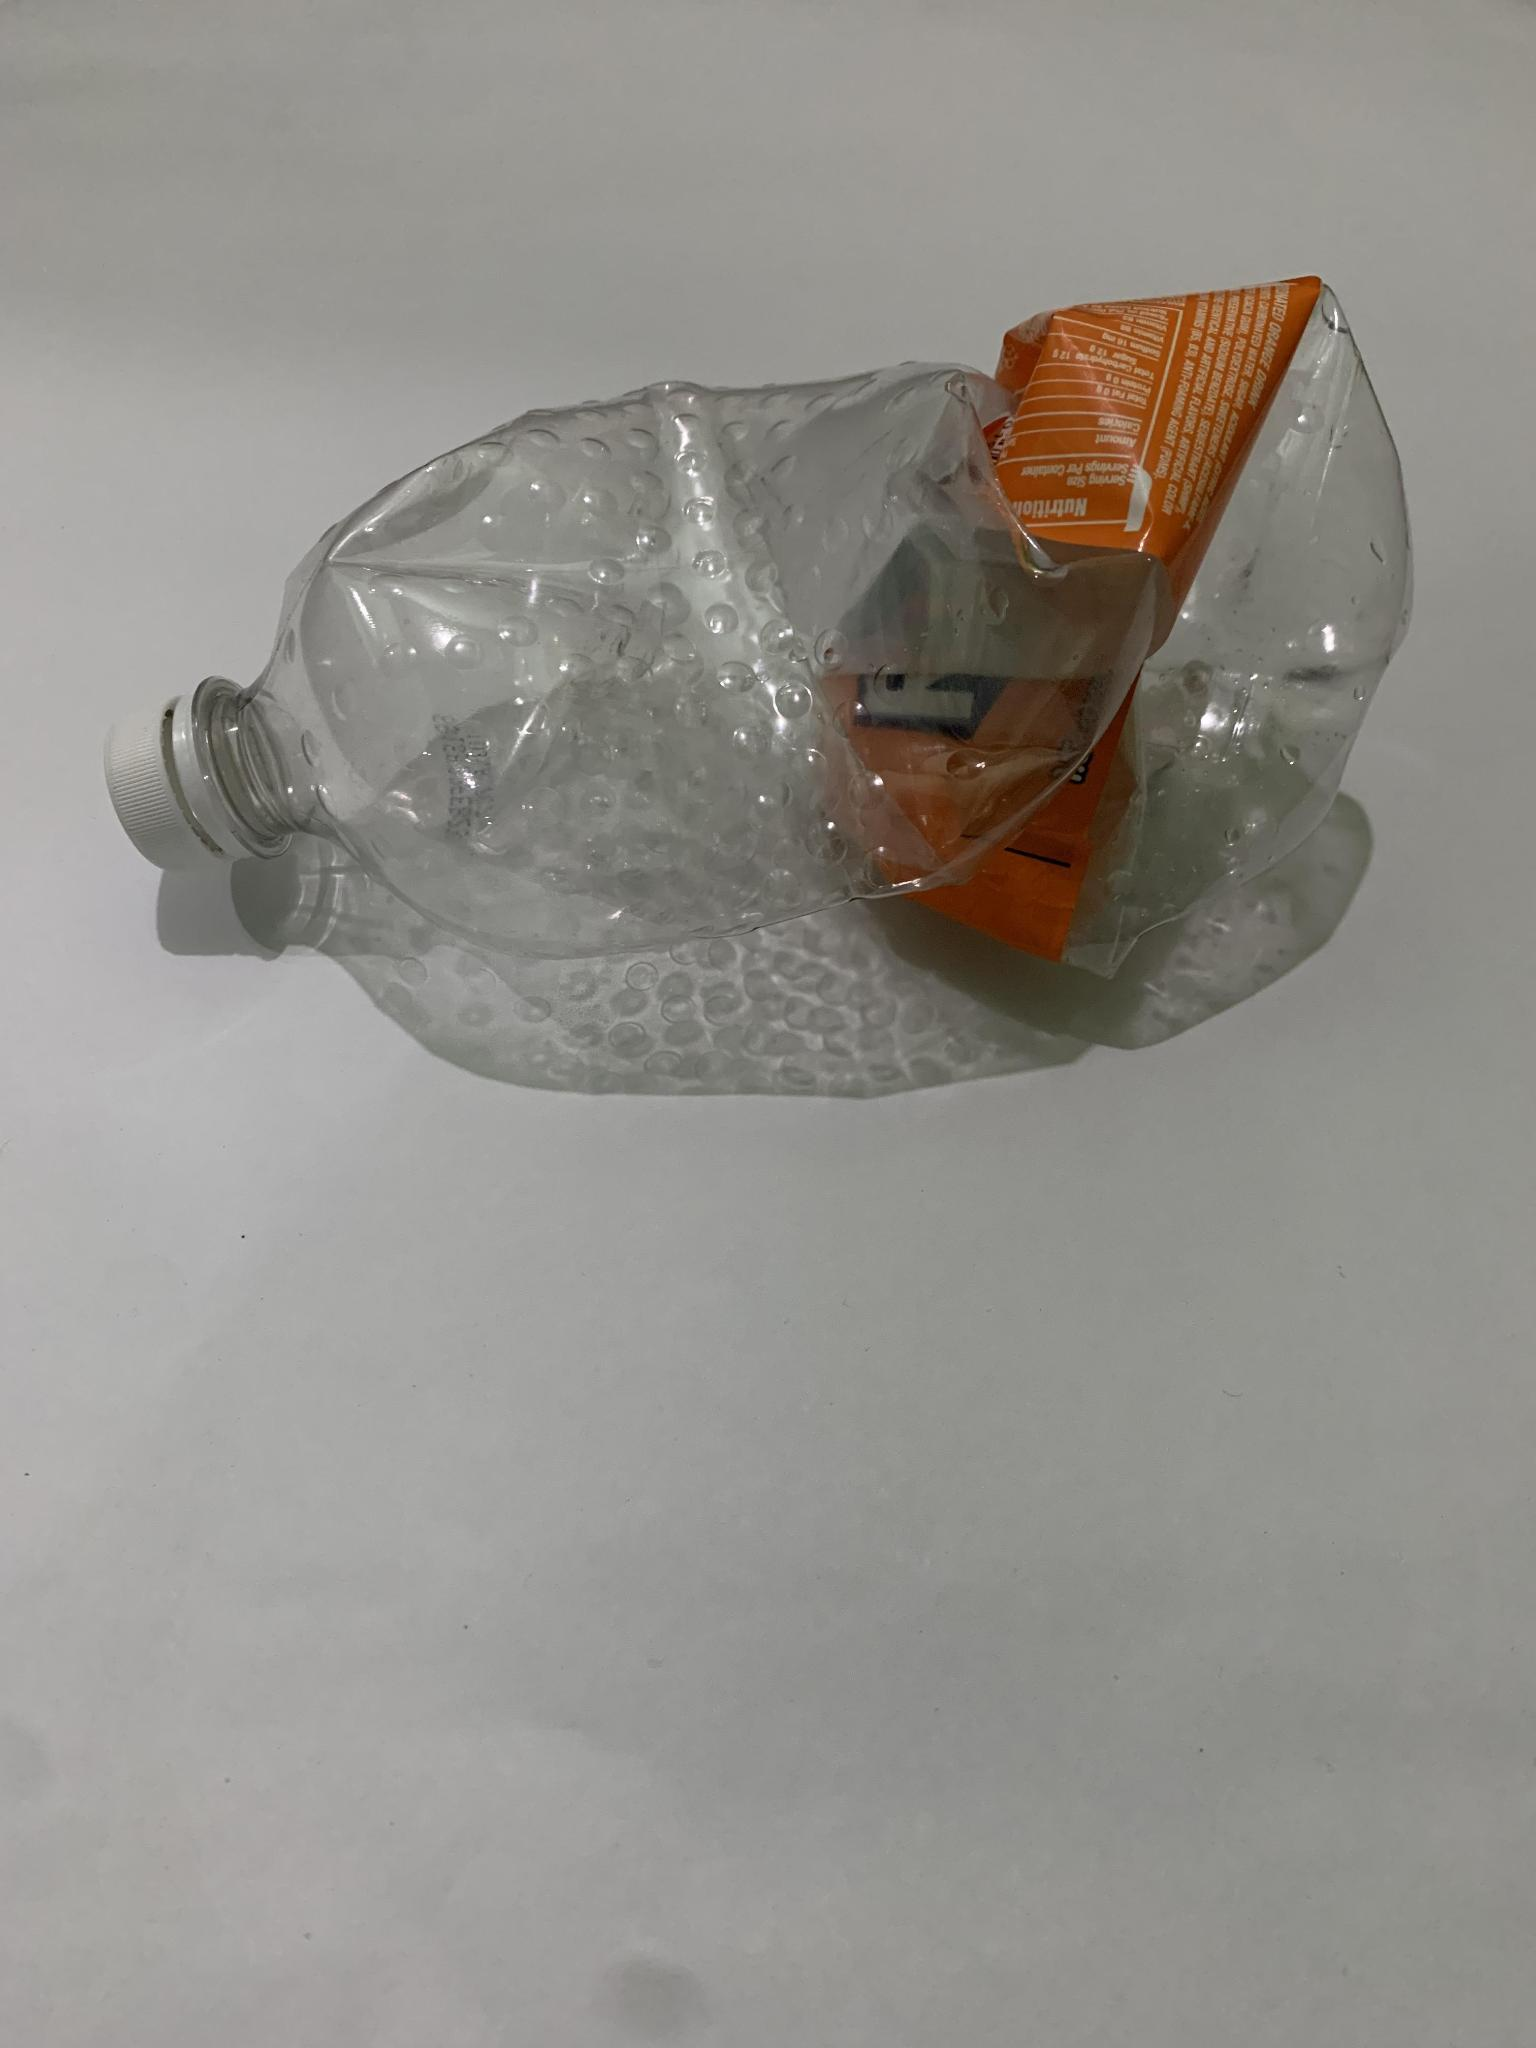bottle: (96, 254, 1422, 1000)
